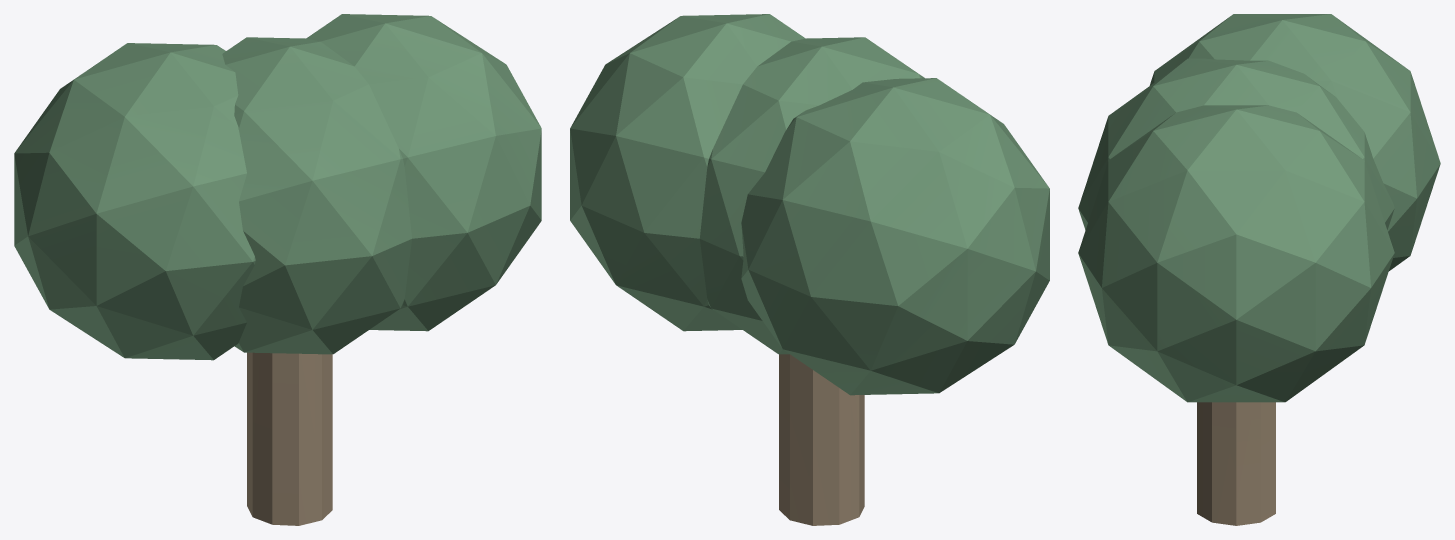
Rendered from broadleaf-01.glb.
The picture shows the model from 3 angles, left to right: view 1: azimuth 30°, elevation 25°; view 2: azimuth 150°, elevation 25°; view 3: azimuth 270°, elevation 25°; orthographic projection. The views are drawn at different scales.
Visible parts, largest first — view 1: world; view 2: world; view 3: world.
Part boxes in pixels (x1,y1,x2,y2): world: (14, 14, 541, 525); world: (570, 14, 1049, 525); world: (1078, 14, 1440, 525).
Bounding box in the file's own units: 1.15 × 1.06 × 0.788.
